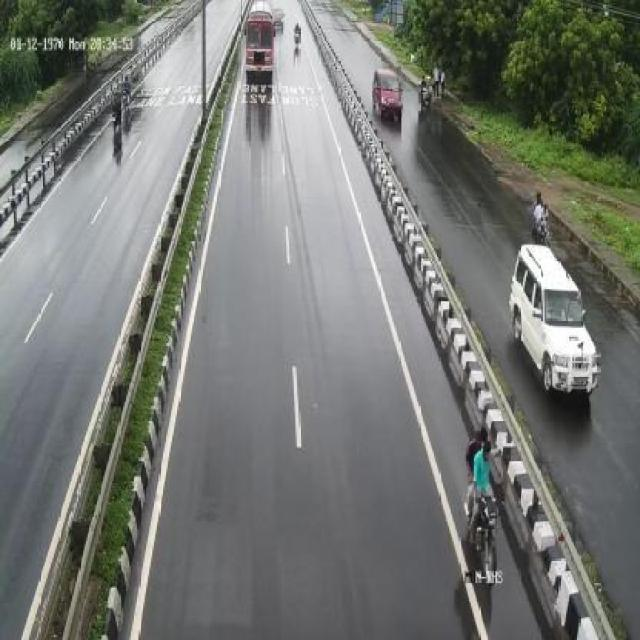car: (512, 238, 596, 408), (374, 65, 406, 126)
